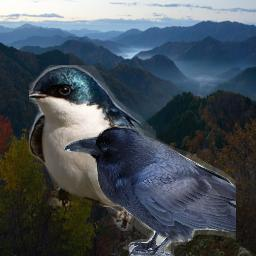Crow: (64, 126, 236, 256)
Swallow: (29, 65, 186, 231)
